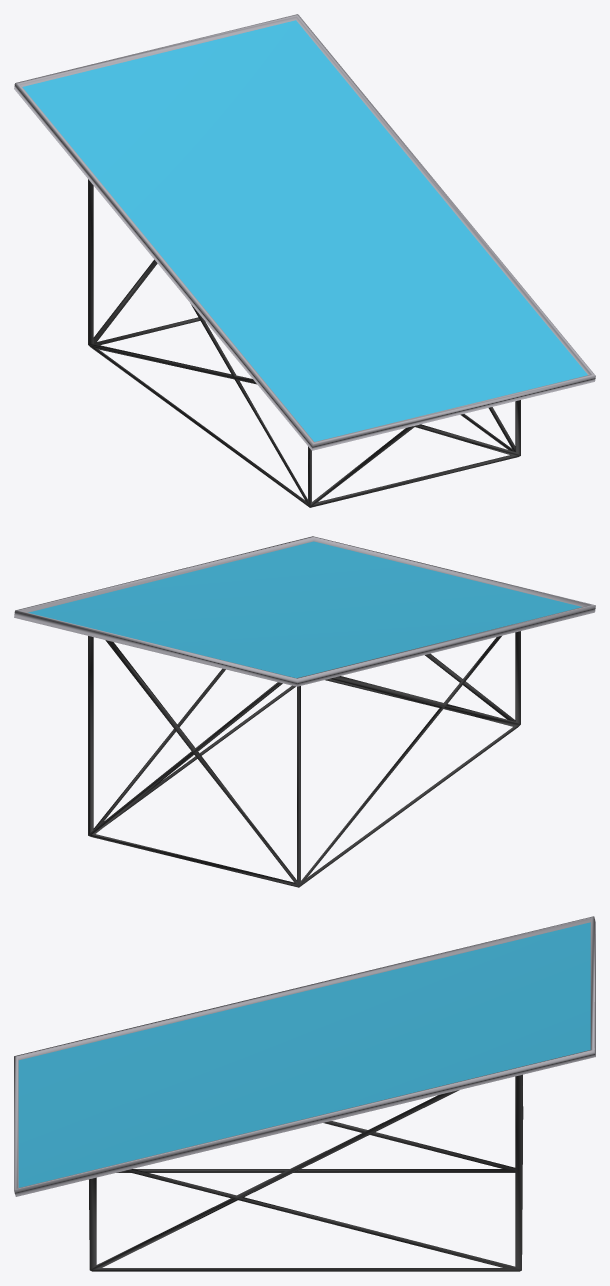
File: SM_SolarPanel4.fbx
3 views of the same model, one above another, from view 1: azimuth 30°, elevation 25°; view 2: azimuth 150°, elevation 25°; view 3: azimuth 270°, elevation 25° (orthographic). The views are drawn at different scales.
Visible parts, largest first — view 1: SM_SolarPanel-P01; view 2: SM_SolarPanel-P01; view 3: SM_SolarPanel-P01.
Part boxes in pixels (x1=…): SM_SolarPanel-P01: x1=14, y1=14, x2=595, y2=507; SM_SolarPanel-P01: x1=14, y1=536, x2=595, y2=887; SM_SolarPanel-P01: x1=14, y1=916, x2=595, y2=1271.
Bounding box in the file's own units: 272 × 225 × 497.
